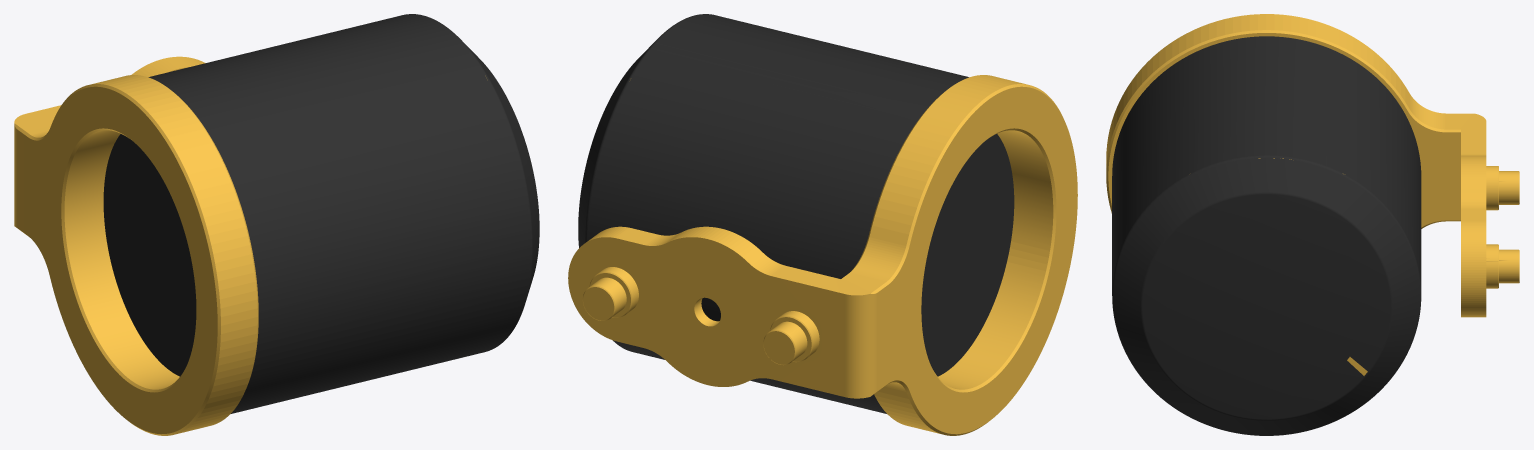
3 views of the same model, side by side, from view 1: azimuth 30°, elevation 25°; view 2: azimuth 150°, elevation 25°; view 3: azimuth 270°, elevation 25° (orthographic). The views are drawn at different scales.
Parts seen in each view (by area): view 1: arml6; view 2: arml6; view 3: arml6.
Boxes of the visible parts, x1,y1,x2,y2 form: arml6: (14,14,539,435); arml6: (568,14,1077,435); arml6: (1106,14,1519,435).
Bounding box in the file's own units: 0.0843 × 0.076 × 0.0979.
1 material, 1 textured.
